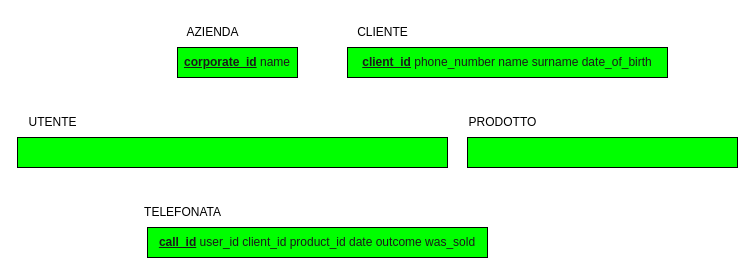
This 755x275 diagram has some shape labels left out. The shapes that lost their labels are listed below. From the top down, each one's box as (x1, y1, x2, y2) in pixels, then its label:
(16, 136, 448, 168): user_id name surname date_of_birth salary is_admin username password
(466, 136, 738, 168): product_id name description corporate_id
